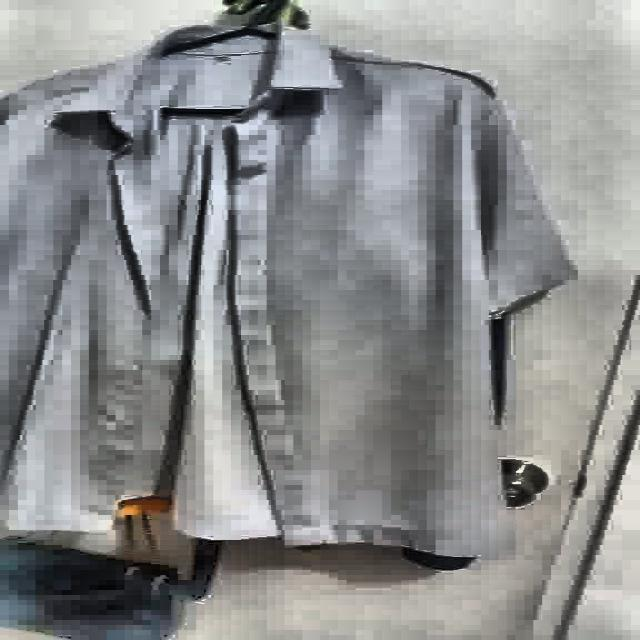clothes: (0, 0, 576, 565)
